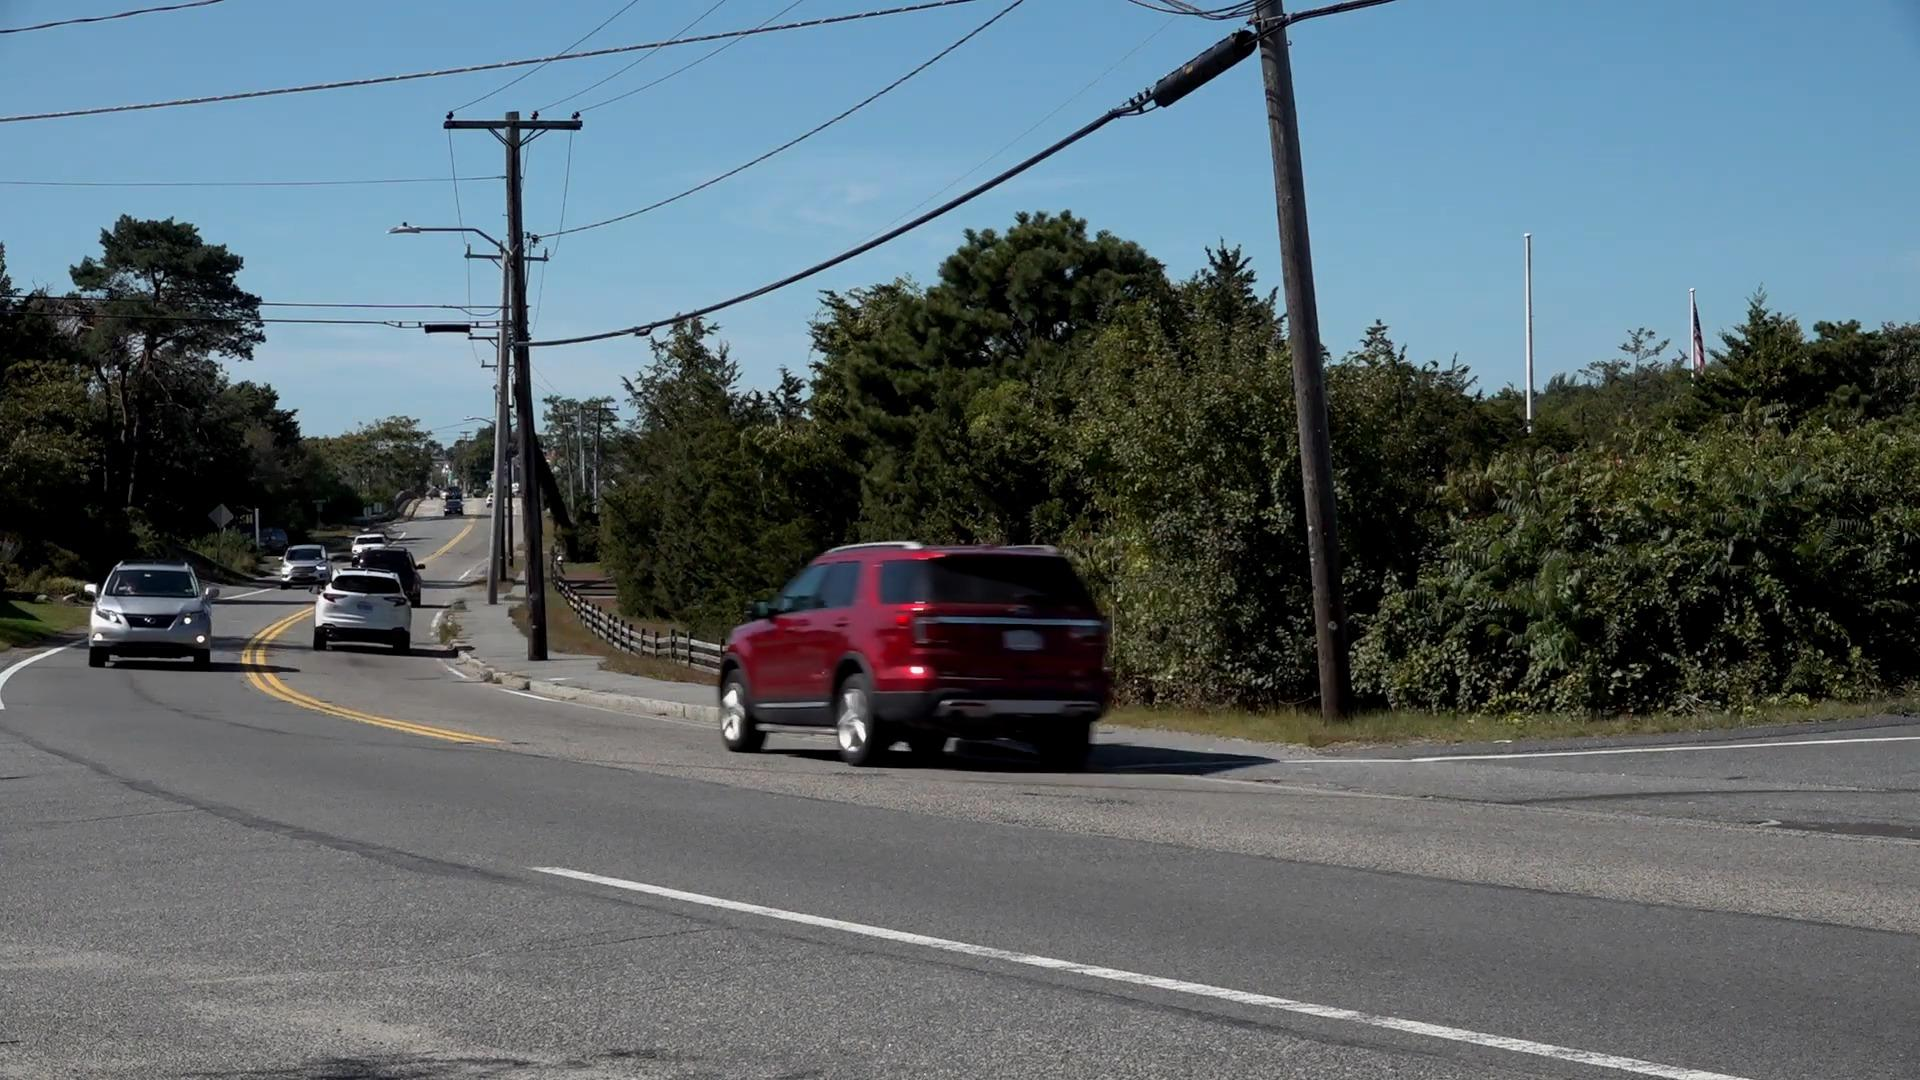suv: (714, 539, 1124, 763), (87, 561, 217, 670), (314, 571, 416, 651)
